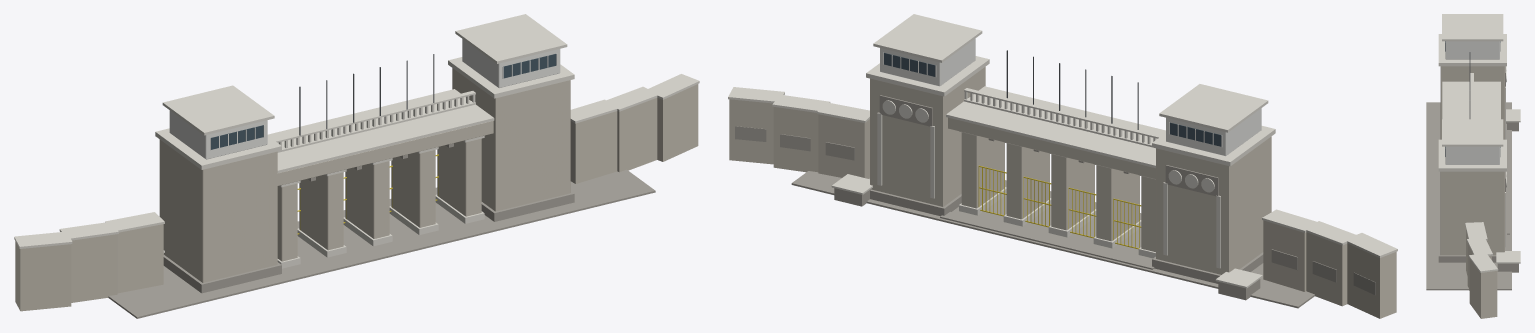
The model's file is west-facade.glb.
The picture shows the model from 3 angles, left to right: view 1: azimuth 30°, elevation 25°; view 2: azimuth 150°, elevation 25°; view 3: azimuth 270°, elevation 25°; orthographic projection. The views are drawn at different scales.
Parts seen in each view (by area): view 1: Facade stone, Facade trim, Facade stone dark, Facade white, Facade glass, Facade steel; view 2: Facade stone, Facade trim, Facade stone dark, Facade white, Facade gate, Facade glass, Facade steel; view 3: Facade trim, Facade stone, Facade stone dark, Facade white, Facade steel.
Boxes of the visible parts, bbox=[...] form: Facade stone: bbox=[15, 68, 698, 311]; Facade trim: bbox=[14, 14, 699, 268]; Facade stone dark: bbox=[108, 143, 655, 318]; Facade white: bbox=[169, 39, 560, 159]; Facade glass: bbox=[210, 54, 556, 149]; Facade steel: bbox=[299, 54, 434, 135]; Facade stone: bbox=[729, 67, 1396, 318]; Facade trim: bbox=[728, 14, 1397, 288]; Facade stone dark: bbox=[735, 95, 1375, 308]; Facade white: bbox=[880, 38, 1261, 156]; Facade gate: bbox=[978, 165, 1141, 249]; Facade glass: bbox=[884, 53, 1221, 146]; Facade steel: bbox=[1006, 50, 1138, 129]; Facade trim: bbox=[1438, 14, 1520, 272]; Facade stone: bbox=[1440, 66, 1504, 318]; Facade stone dark: bbox=[1426, 66, 1518, 290]; Facade white: bbox=[1445, 41, 1500, 164]; Facade steel: bbox=[1469, 52, 1470, 118].
Size of the model in its own units: 81.32 by 18.7 by 13.2.
